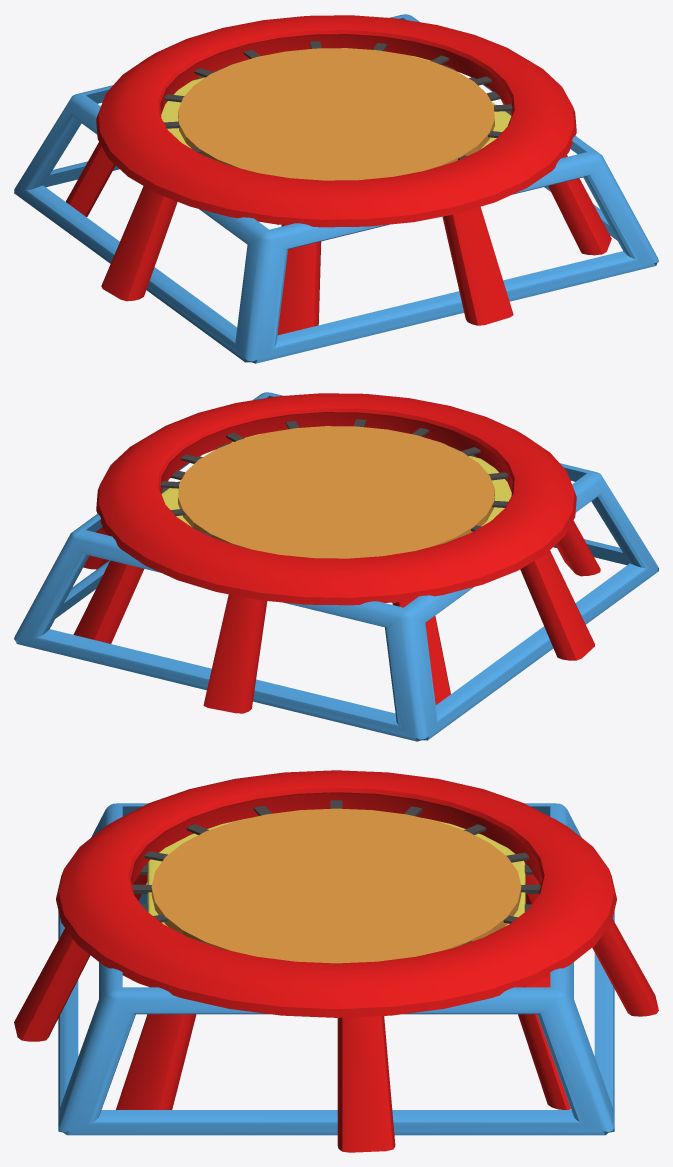
File: trambolin.fbx
3 views of the same model, one above another, from view 1: azimuth 30°, elevation 25°; view 2: azimuth 150°, elevation 25°; view 3: azimuth 270°, elevation 25° (orthographic). The views are drawn at different scales.
Visible parts, largest first — view 1: Cylinder, Cube; view 2: Cylinder, Cube; view 3: Cylinder, Cube.
Boxes of the visible parts, x1,y1,x2,y2 form: Cylinder: (66, 15, 611, 335); Cube: (14, 14, 658, 363); Cylinder: (73, 393, 600, 713); Cube: (14, 392, 658, 741); Cylinder: (14, 770, 658, 1152); Cube: (58, 803, 614, 1135).
Size of the model in its own units: 302 by 74.22 by 302.
